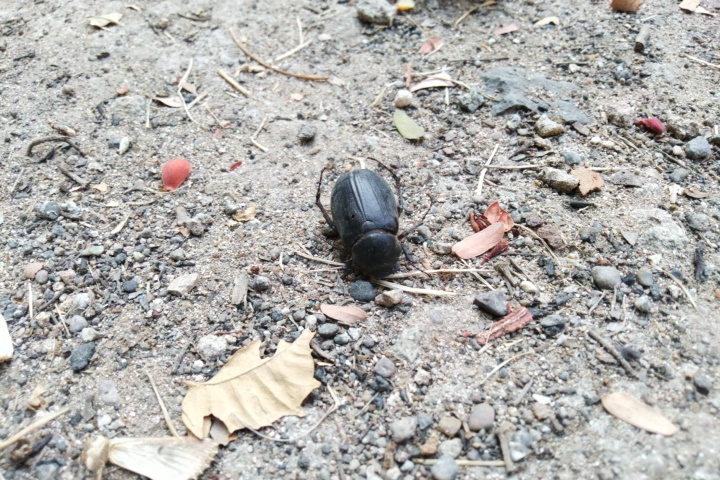INS-A: (299, 153, 411, 290)
